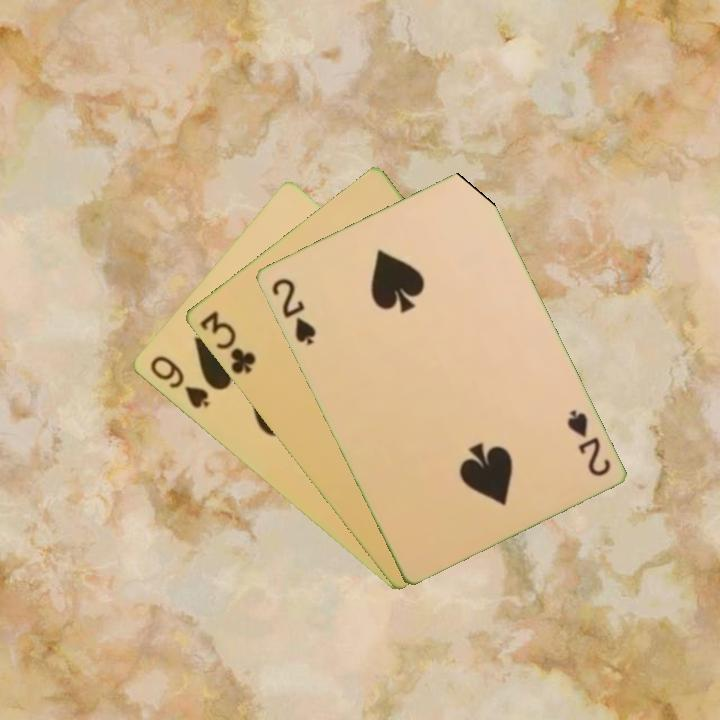2s: (267, 274, 319, 348), (562, 405, 613, 479)
3c: (195, 306, 259, 377)
9s: (145, 352, 212, 412)
